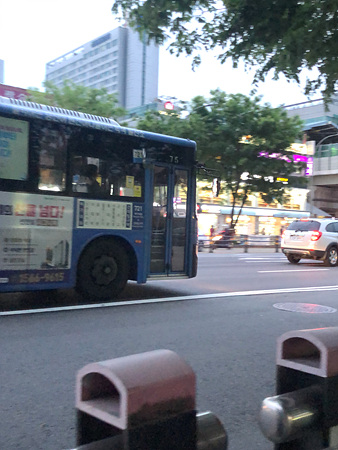entrance: (143, 154, 192, 279)
